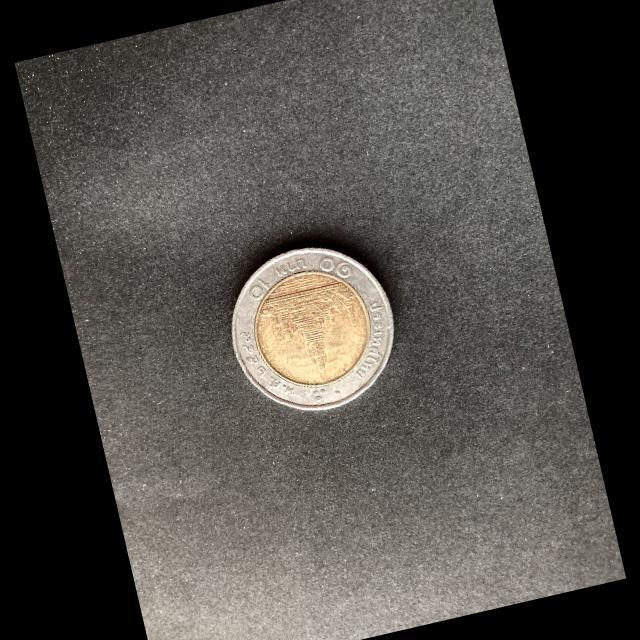10 Bath: (230, 245, 398, 417)
